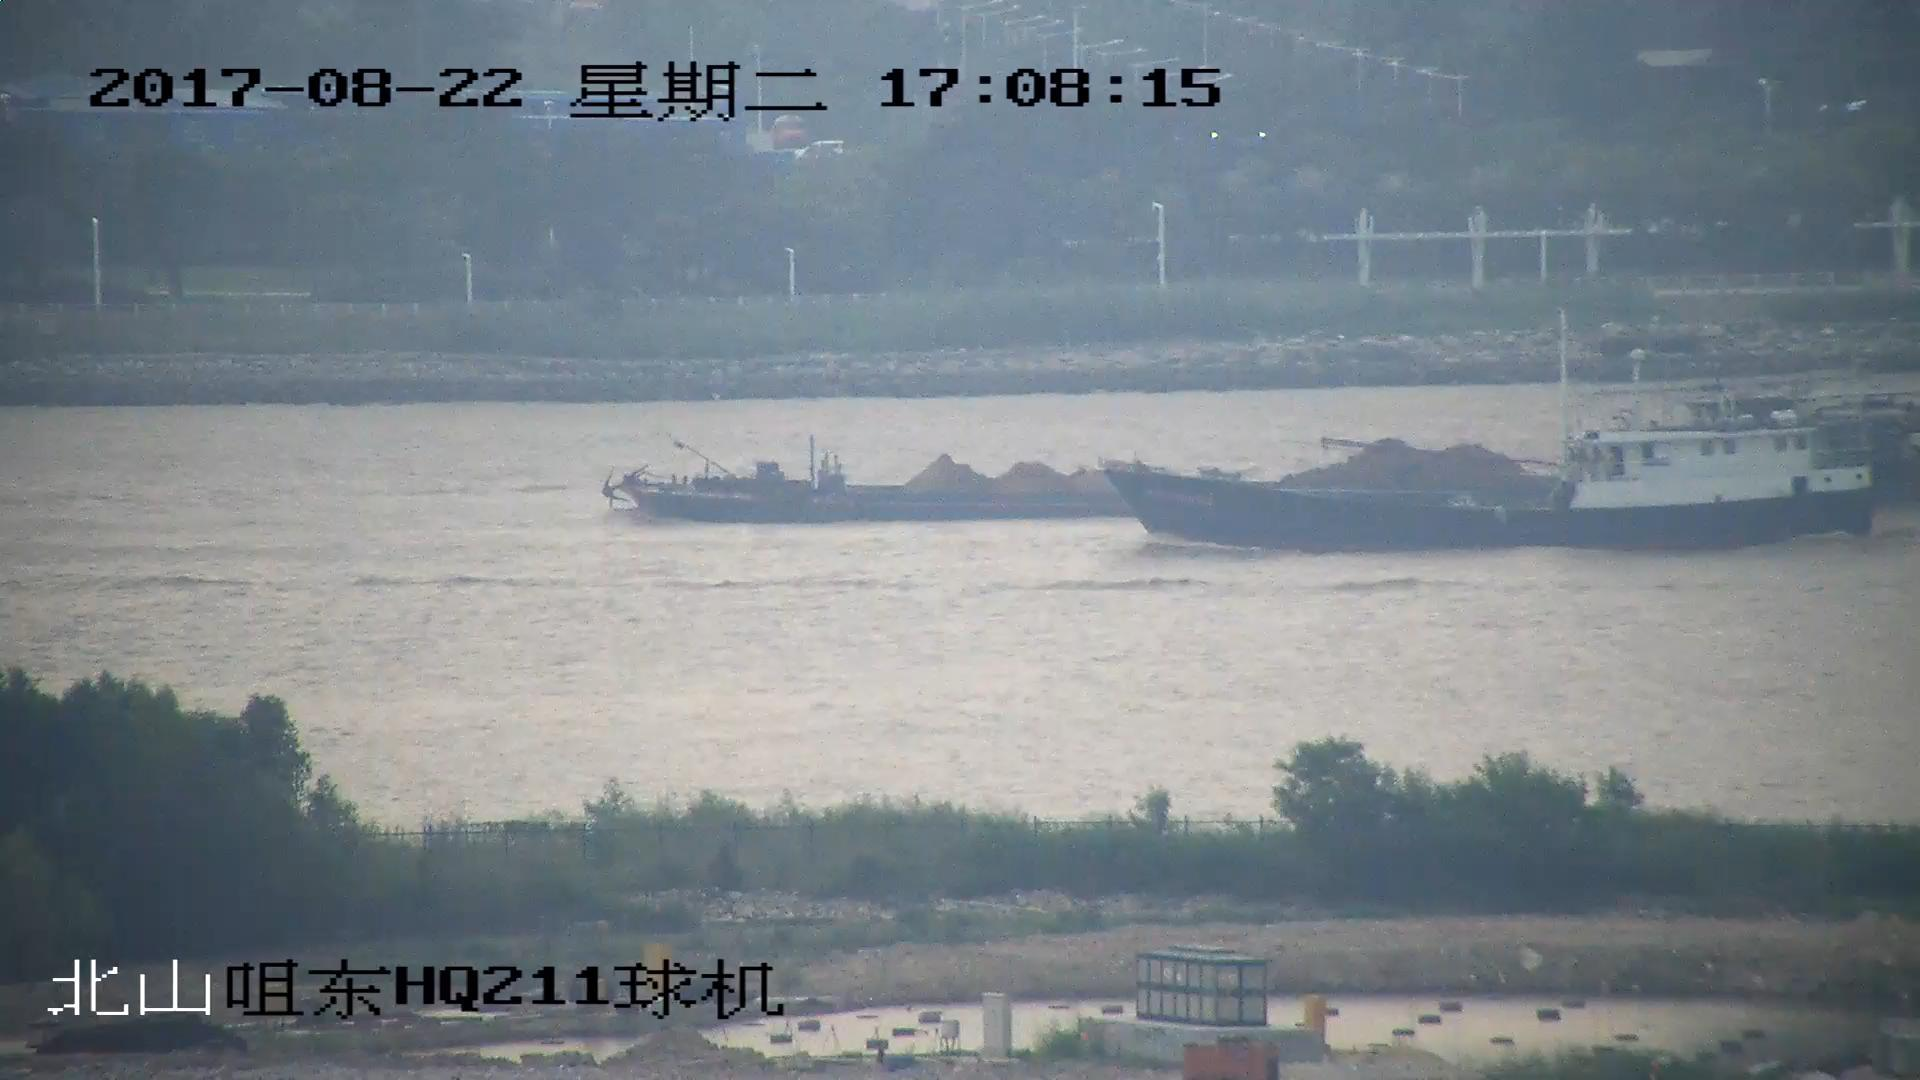Ship: (603, 378, 1920, 527), (1112, 392, 1880, 547)
